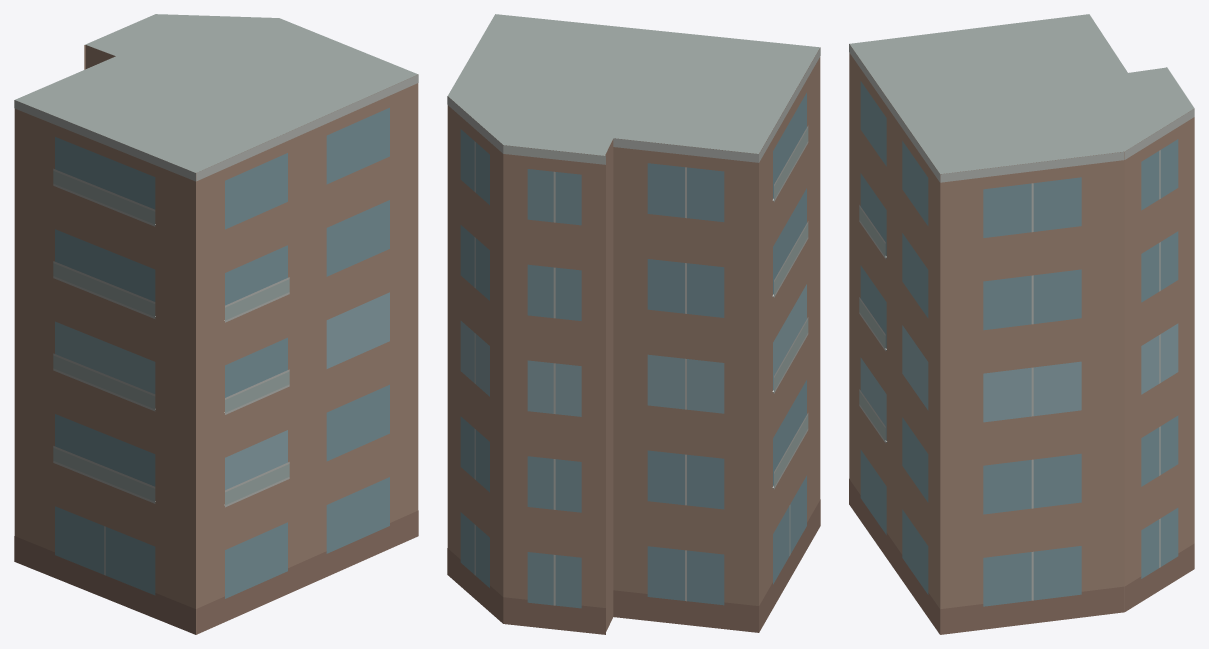
File: survey-upis-32939056.glb
3 views of the same model, side by side, from view 1: azimuth 30°, elevation 25°; view 2: azimuth 150°, elevation 25°; view 3: azimuth 270°, elevation 25° (orthographic). The views are drawn at different scales.
Visible parts, largest first — view 1: survey-upis-32939056.tmp; view 2: survey-upis-32939056.tmp; view 3: survey-upis-32939056.tmp.
Boxes of the visible parts, left/top/right/bottom form: survey-upis-32939056.tmp: left=14, top=14, right=418, bottom=634; survey-upis-32939056.tmp: left=447, top=14, right=820, bottom=634; survey-upis-32939056.tmp: left=849, top=14, right=1194, bottom=634.
Bounding box in the file's own units: 9.85 × 13.2 × 8.98.
